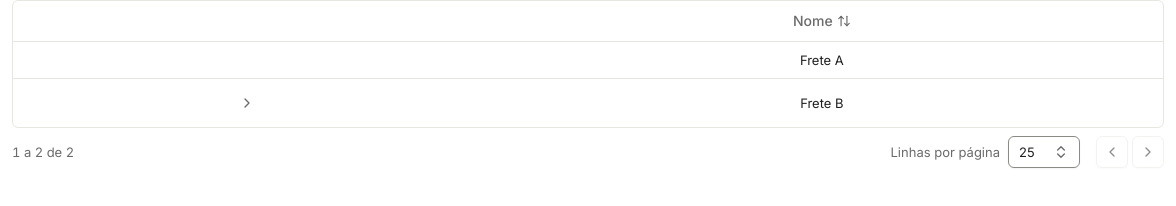
it: DataTable com podeExpandir › só a linha aceita ganha chevron; a recusada fica com a célula vazia
The width and height of the screenshot is (1176, 206).
Click the button named "Expandir detalhes" at (247,102), box [231,86,263,118]
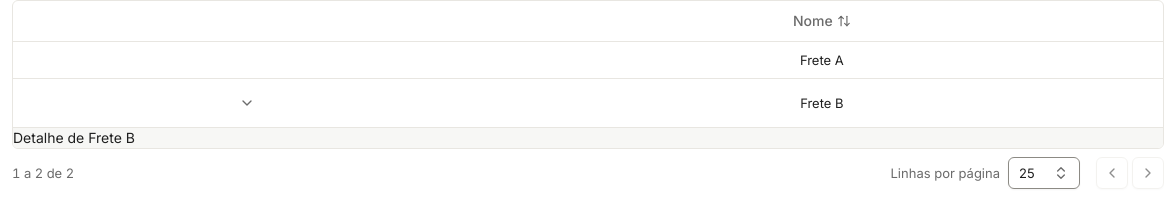
Result: the text "Detalhe de Frete B" is shown at [13,128,135,146]
